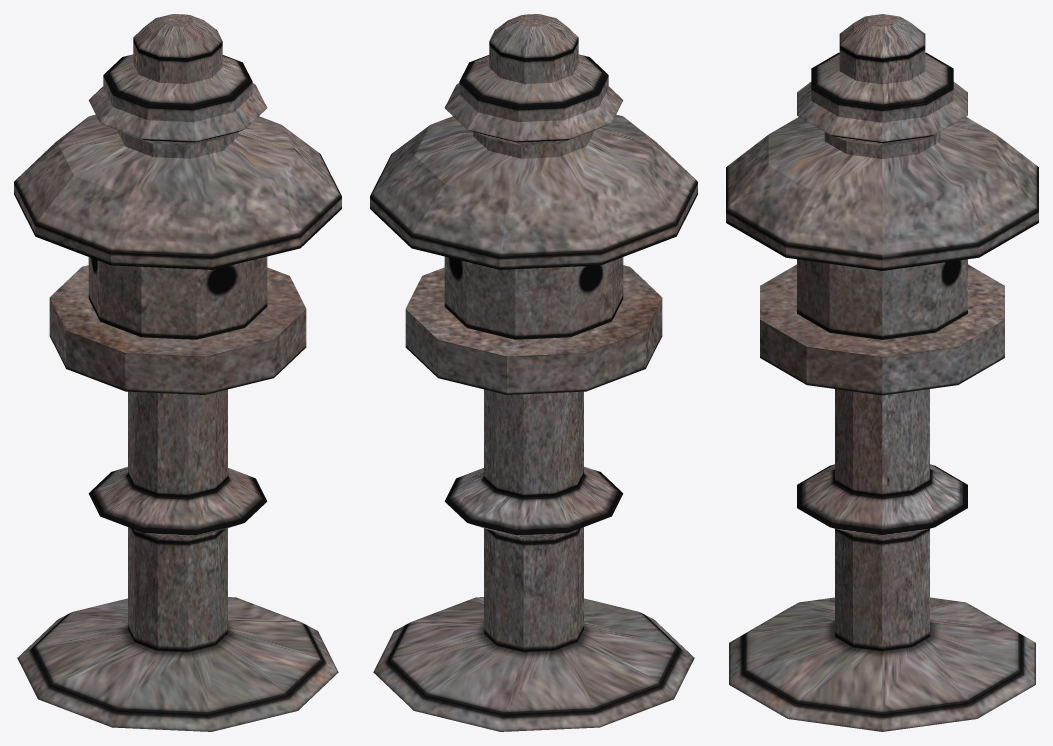
File: StreetLight.FBX
3 renders of one model, left to right at view 1: azimuth 30°, elevation 25°; view 2: azimuth 150°, elevation 25°; view 3: azimuth 270°, elevation 25°, orthographic.
Visible parts, largest first — view 1: Cylinder001; view 2: Cylinder001; view 3: Cylinder001.
Boxes of the visible parts, left/top/right/bottom form: Cylinder001: left=14, top=14, right=341, bottom=731; Cylinder001: left=370, top=14, right=697, bottom=731; Cylinder001: left=726, top=14, right=1038, bottom=731.
Bounding box in the file's own units: 23.15 × 49.99 × 22.02.
